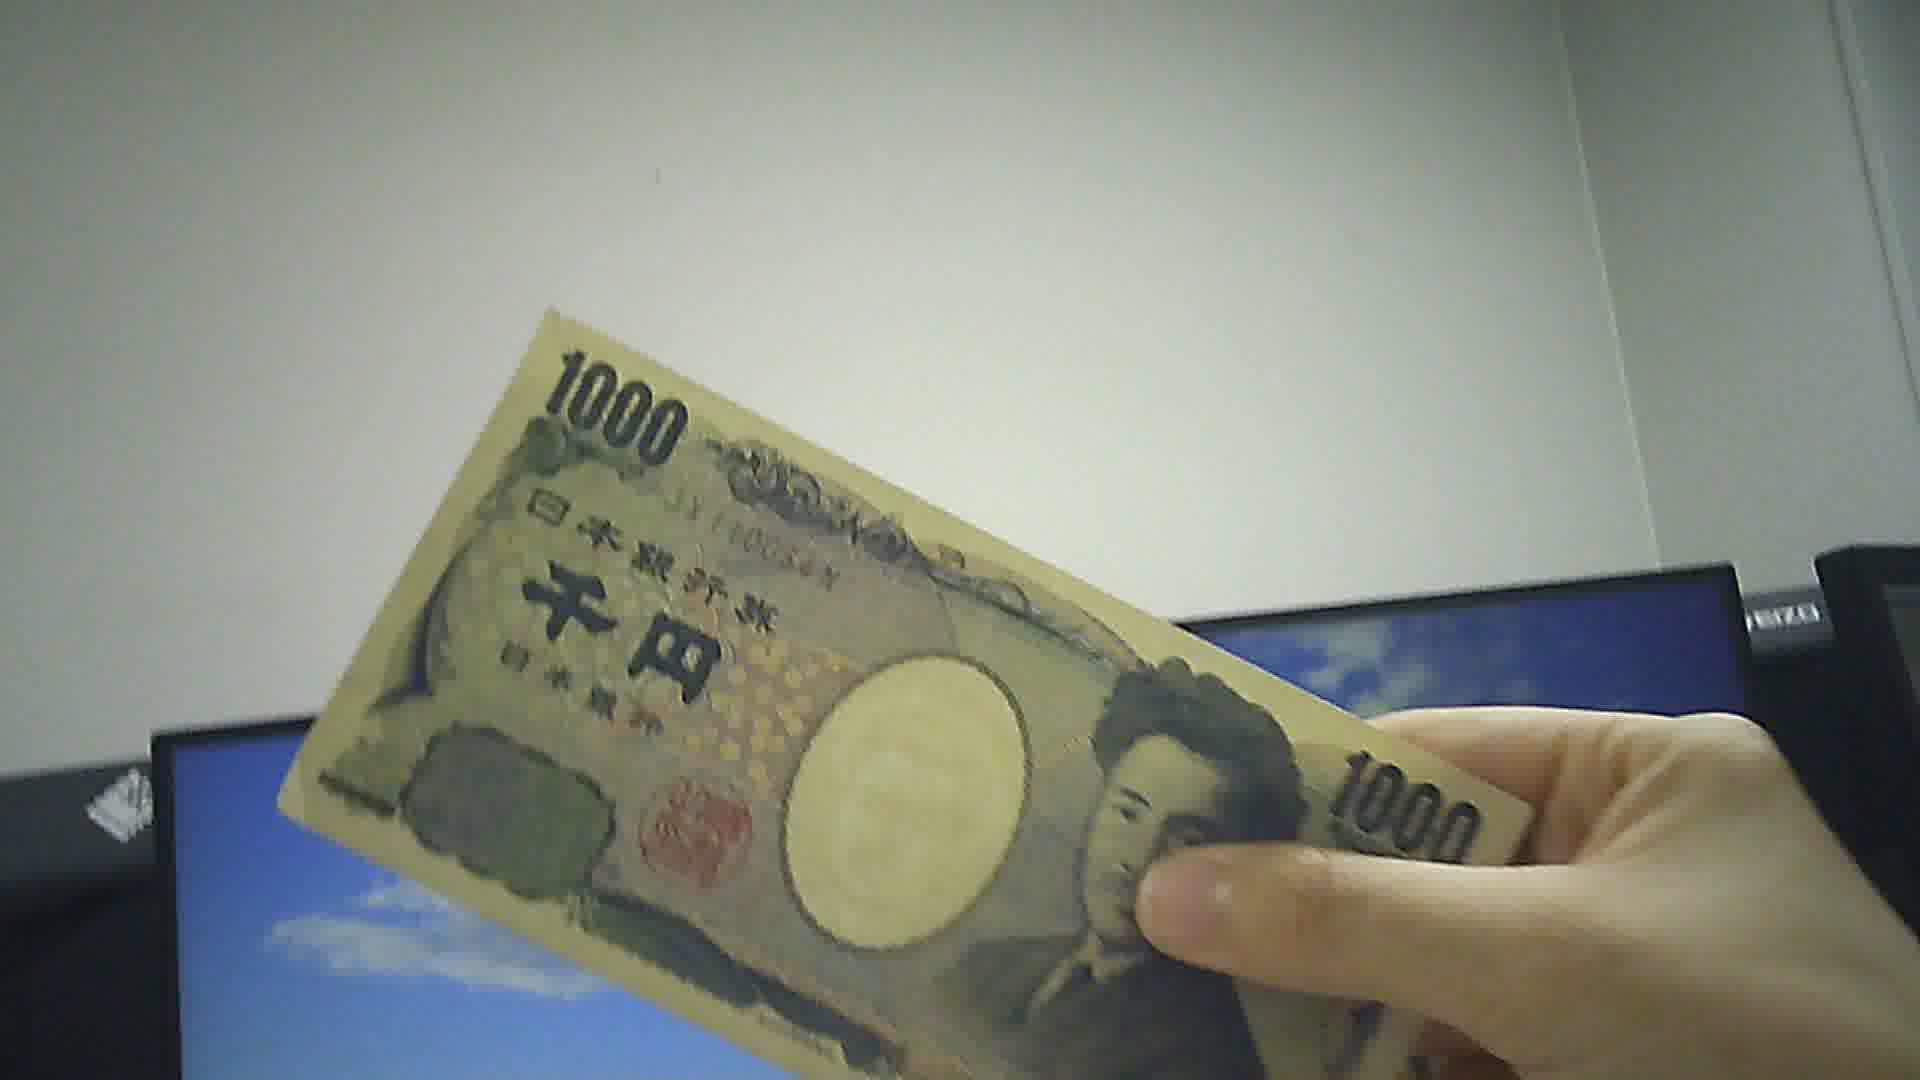1,000 Yen: (284, 287, 1524, 1069)
